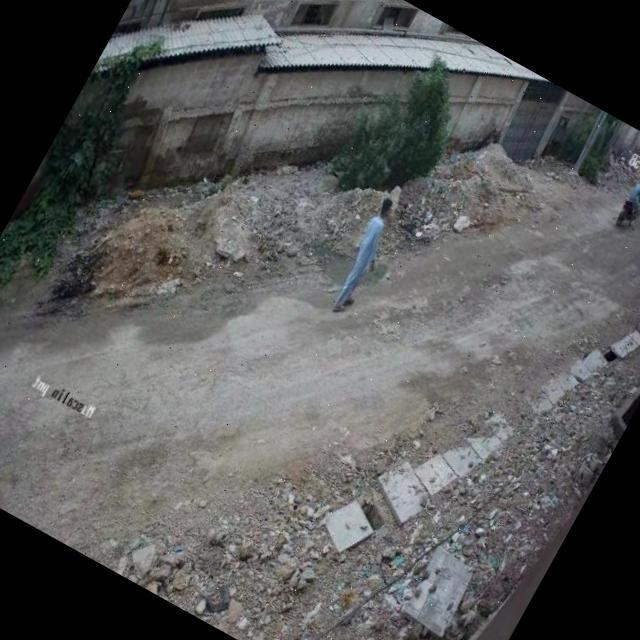person: (318, 194, 406, 322), (619, 171, 640, 209)
